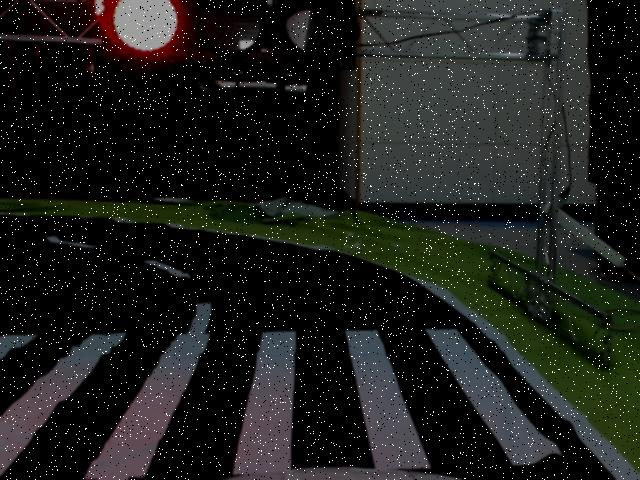crosswalk: (0, 325, 567, 480)
traffic light-red-: (95, 0, 361, 71)
